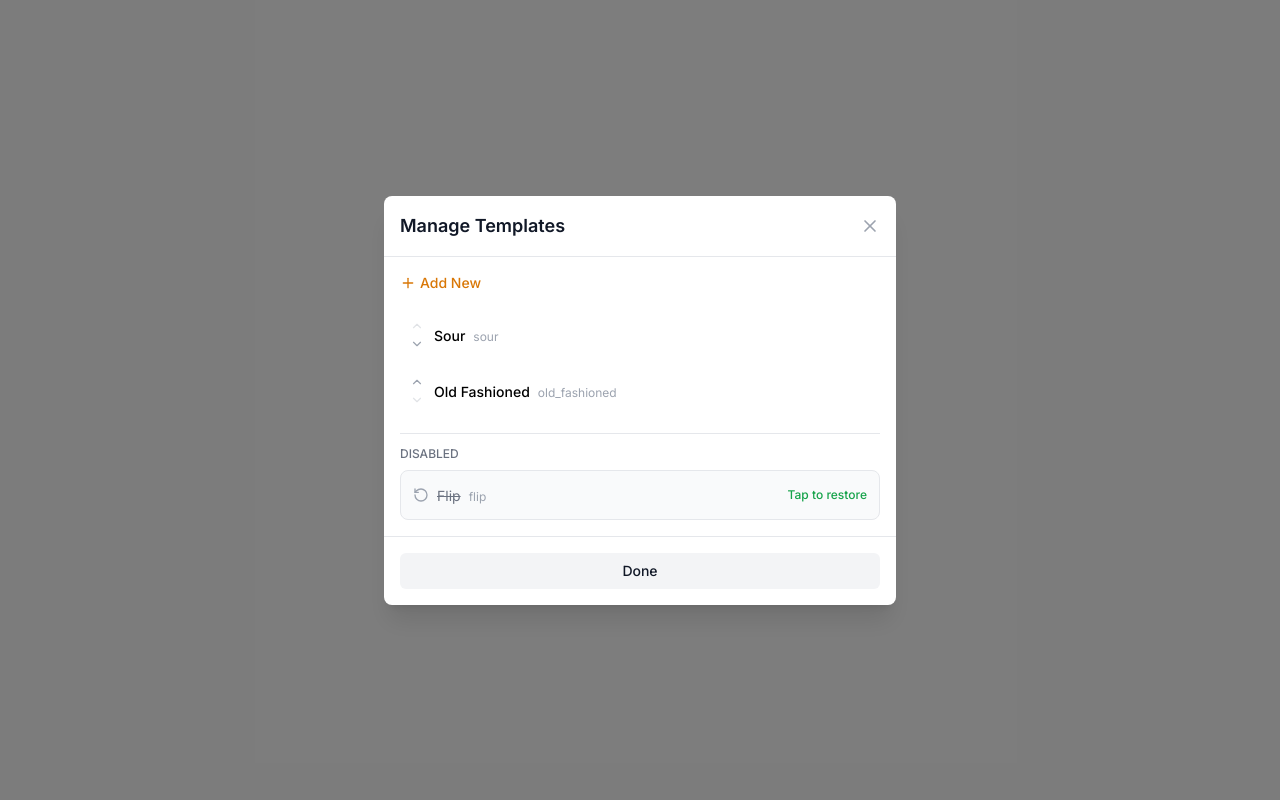
Test: CategoryManagementModal › shows error on duplicate value (409)
The image size is (1280, 800).
Click the button "Add New" at (441, 282), box [400,272,481,292]
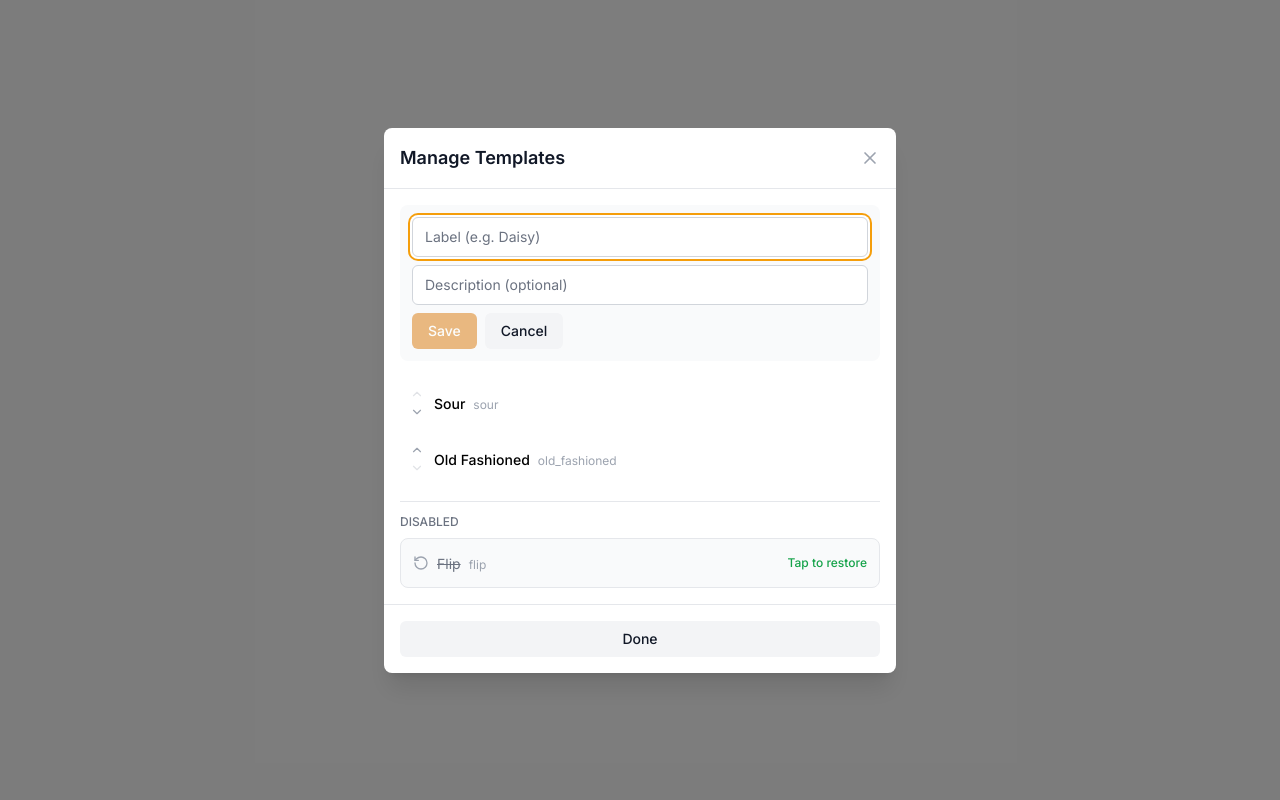
Type "Sour" into the field with placeholder "Label (e.g. Daisy)" at (640, 236), box [412,216,868,256]
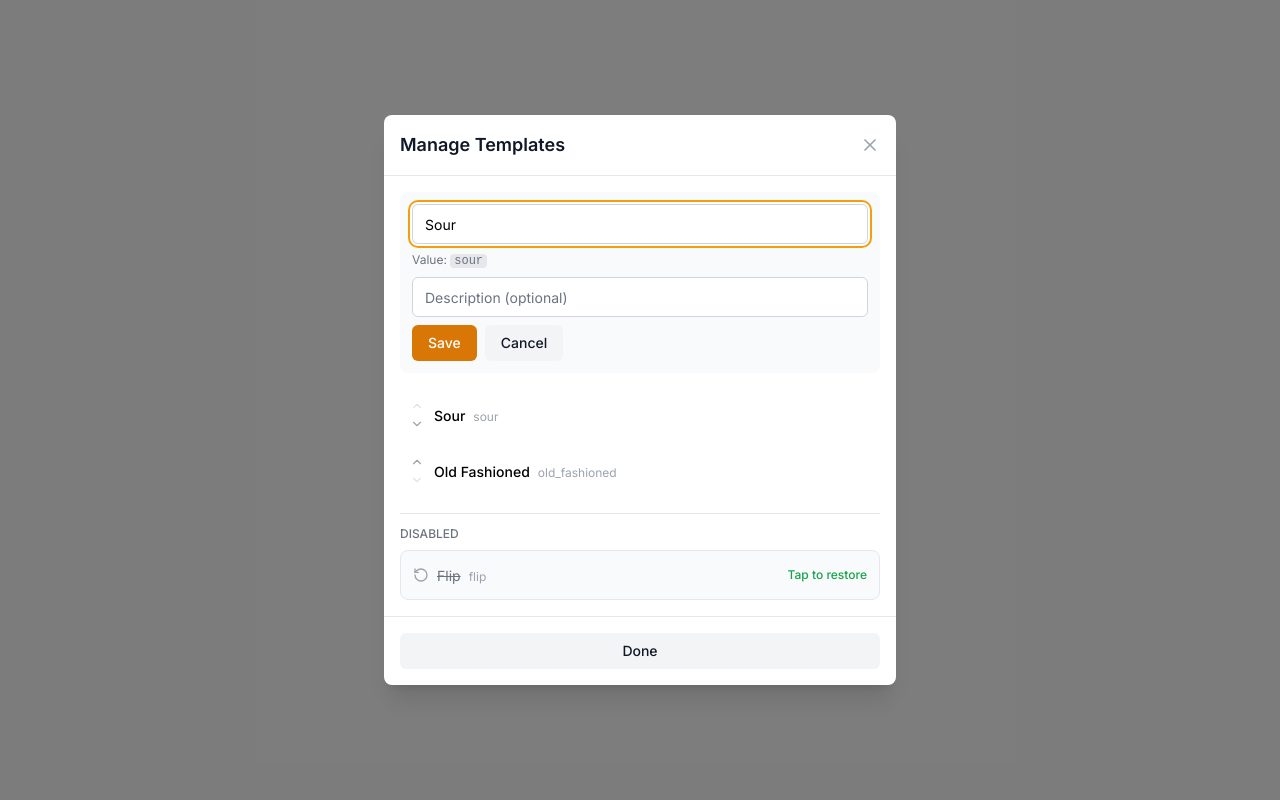
Click the button "Save" at (444, 343), box [412,325,477,361]
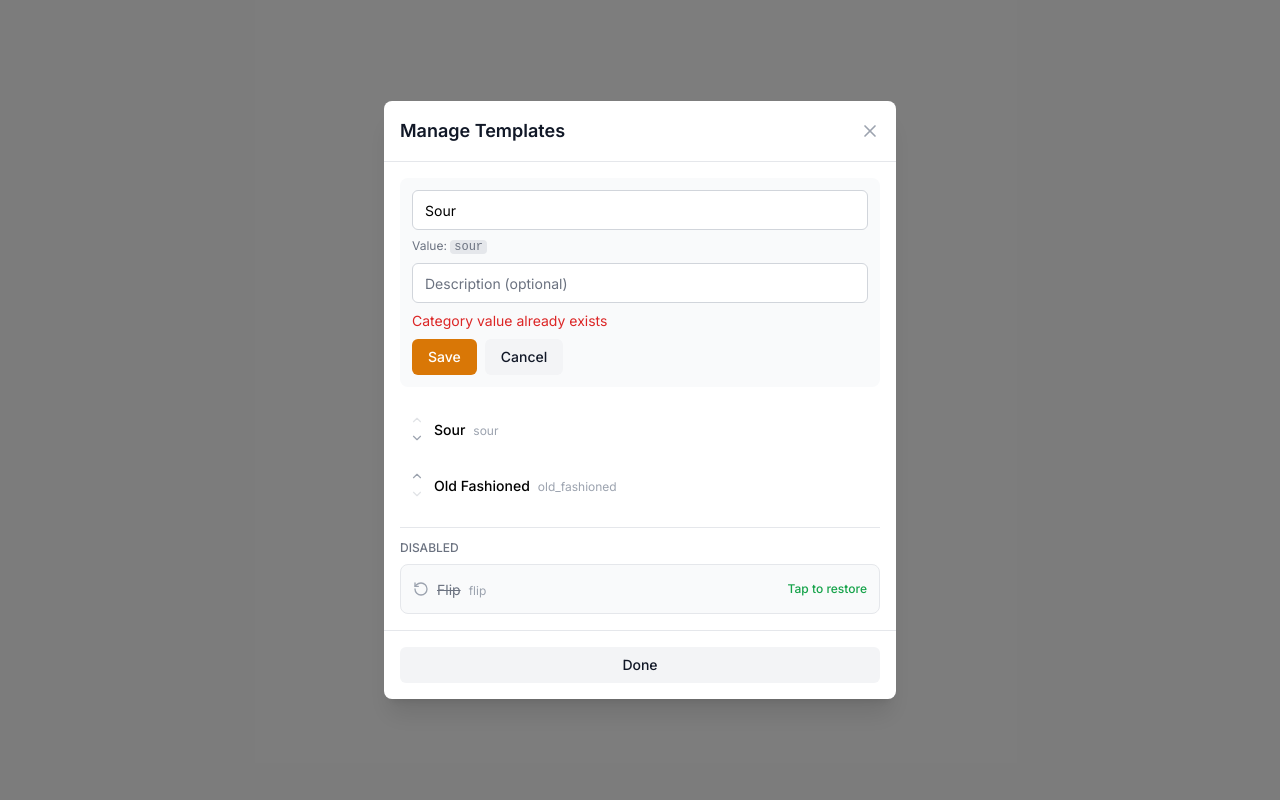
Check: the text "Category value already exists" is shown, box [412,312,607,329]
